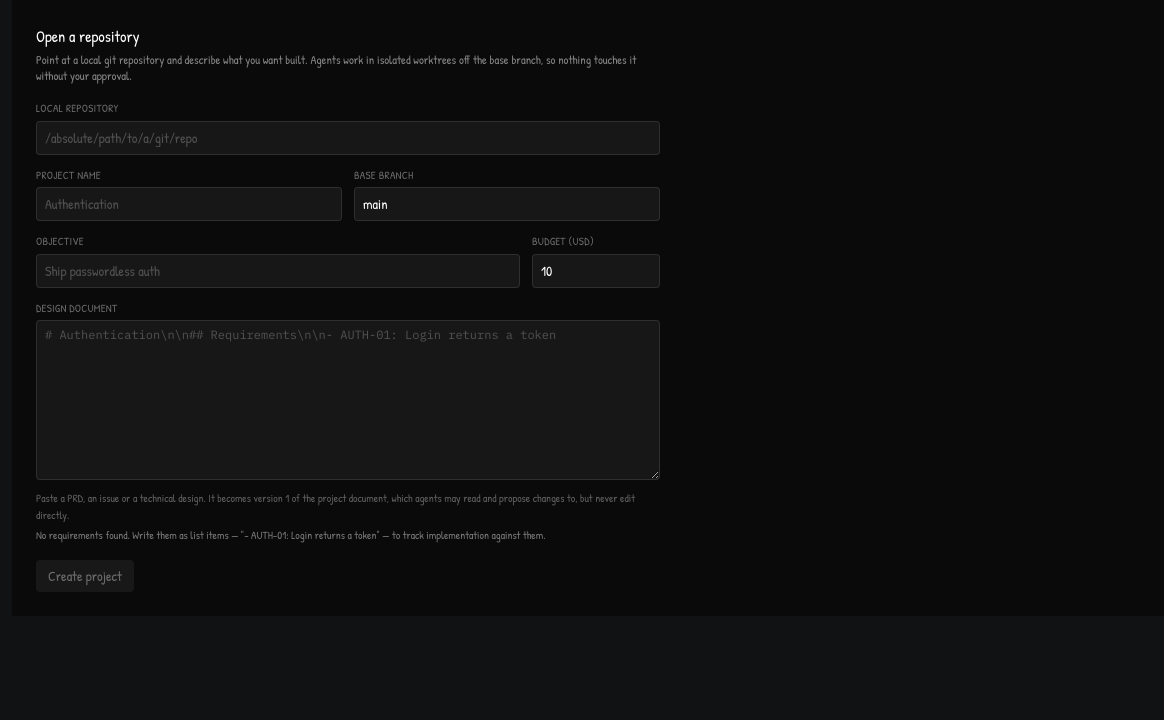
Control Room shell › creating a project POSTs it and selects the result
Expected: the form with test id "new-project" is shown, left=12, top=0, right=684, bottom=616
Type "/tmp/repo" into the field with test id "np-repo".
click(348, 138); type("/tmp/repo")  # box left=36, top=120, right=660, bottom=154
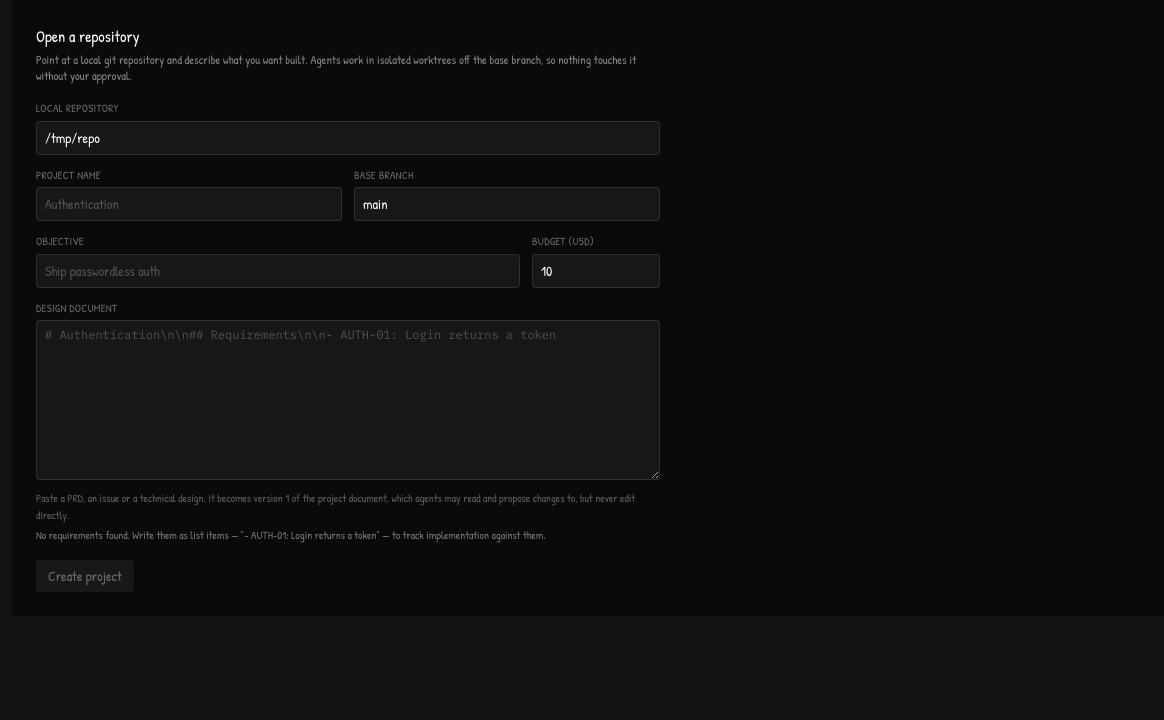
Type "Greeting Service" into the field with test id "np-name".
click(189, 204); type("Greeting Service")  # box left=36, top=187, right=342, bottom=221
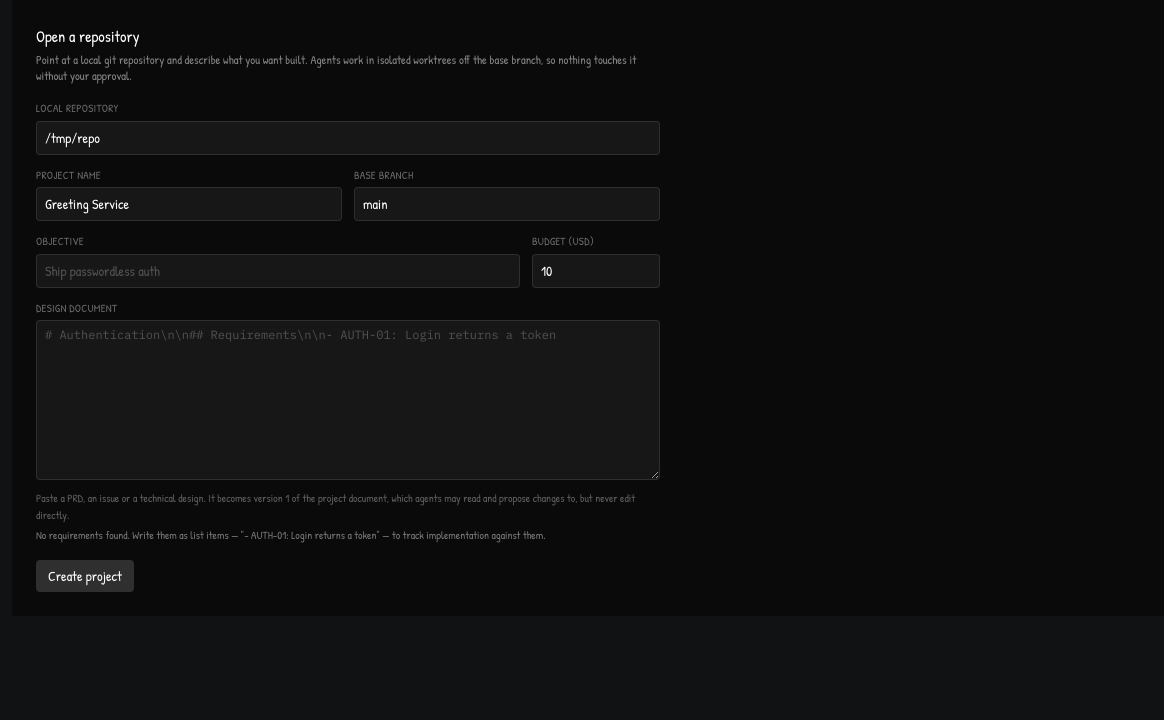
Replace the text in the text box with test id "np-design" with "# Design" at coordinates (348, 400), box left=36, top=320, right=660, bottom=480
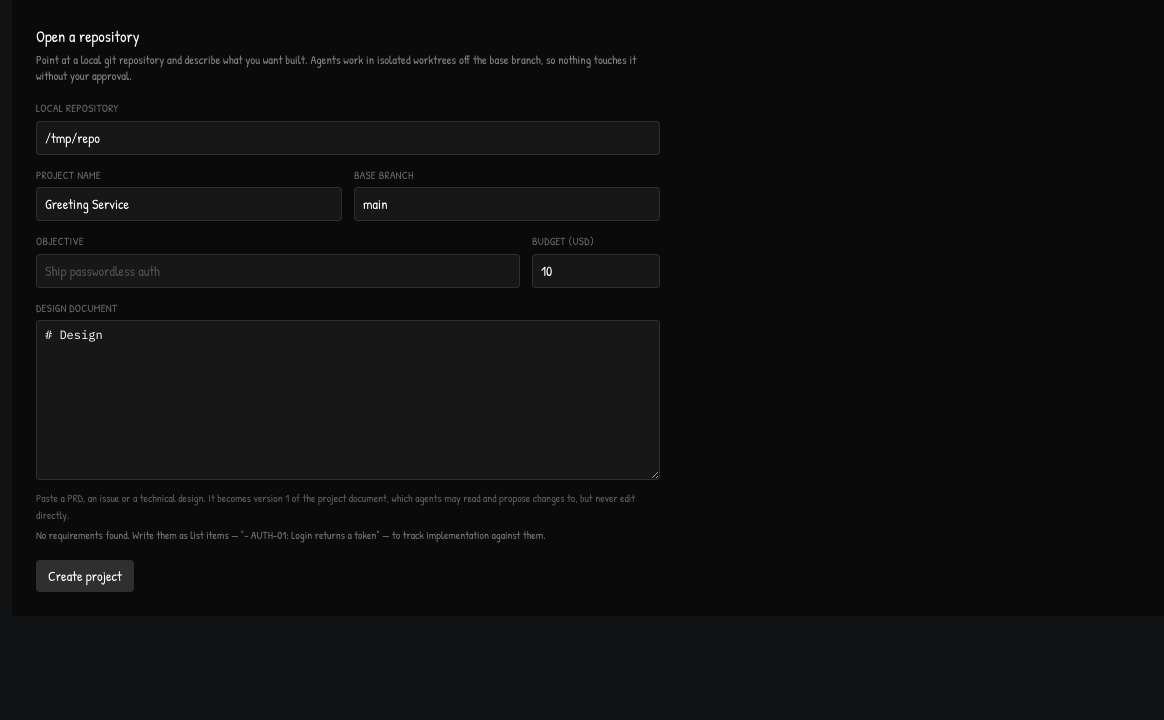
Click the button with test id "np-submit".
click(85, 576)  # box left=36, top=560, right=134, bottom=592
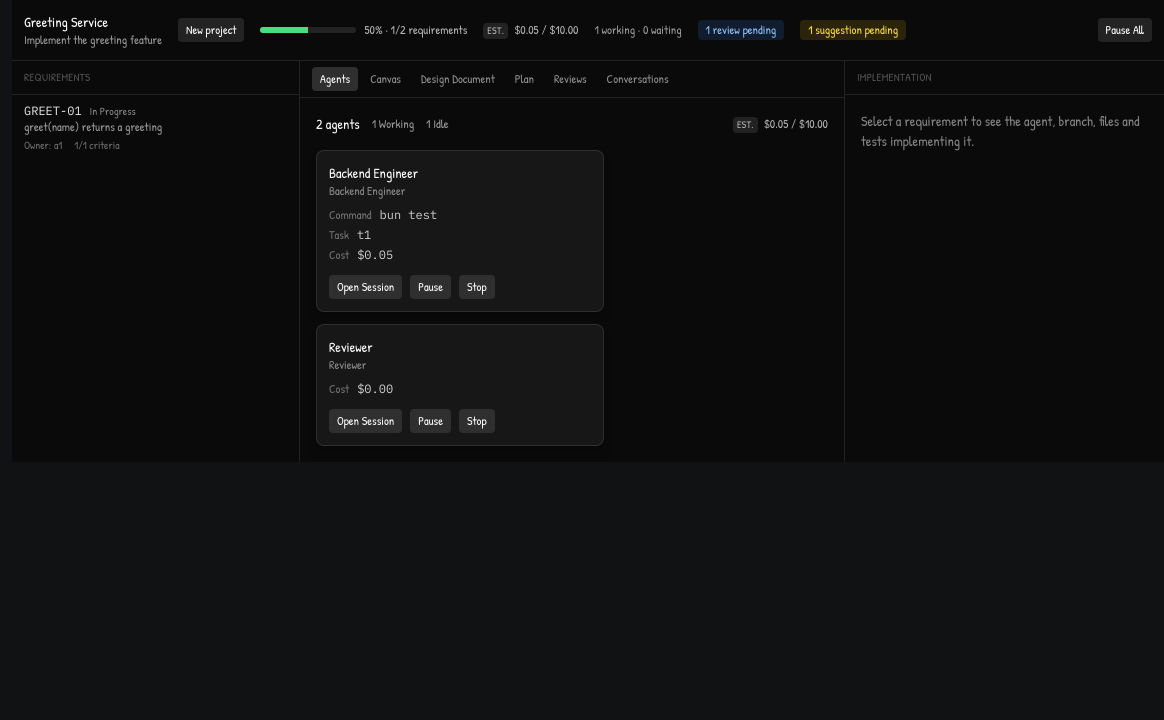
Result: the text with test id "project-name" reads "Greeting Service" at left=24, top=12, right=108, bottom=31
